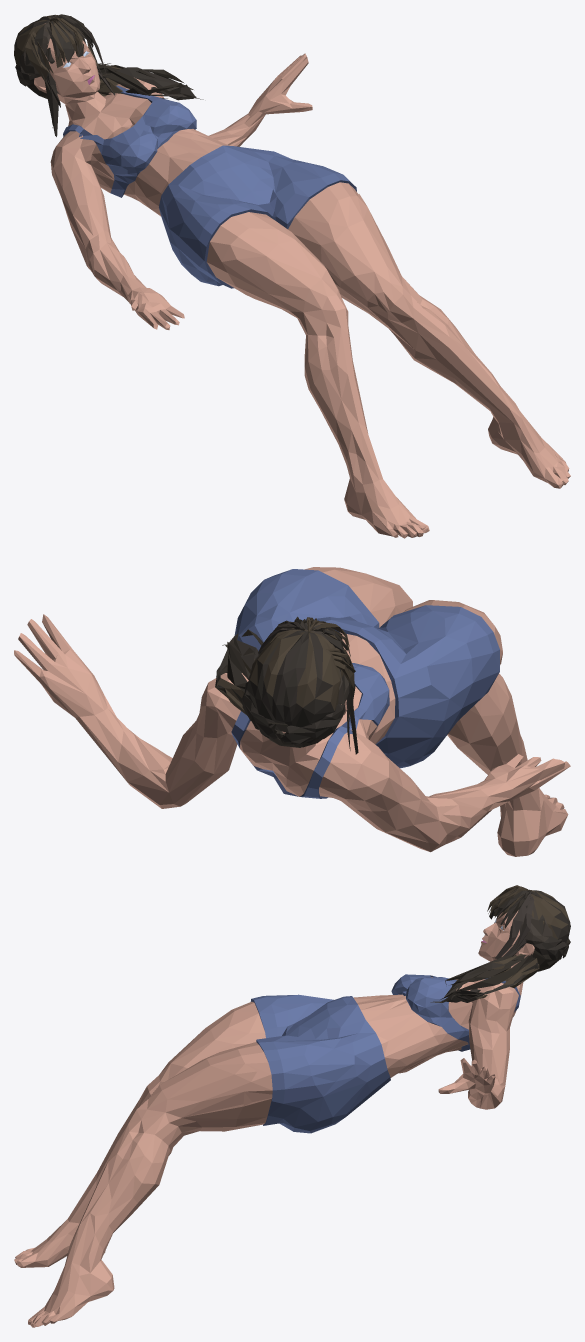
File: elizabeth_lying_down.fbx
3 renders of one model, top to bottom at view 1: azimuth 30°, elevation 25°; view 2: azimuth 150°, elevation 25°; view 3: azimuth 270°, elevation 25°, orthographic. The views are drawn at different scales.
Visible parts, largest first — view 1: intim_suit.001; view 2: intim_suit.001; view 3: intim_suit.001.
Part boxes in pixels (x1,y1,x2,y2): intim_suit.001: (14, 14, 570, 538); intim_suit.001: (14, 567, 570, 856); intim_suit.001: (14, 885, 570, 1327).
Bounding box in the file's own units: 0.8719 × 1.4 × 0.9251.
